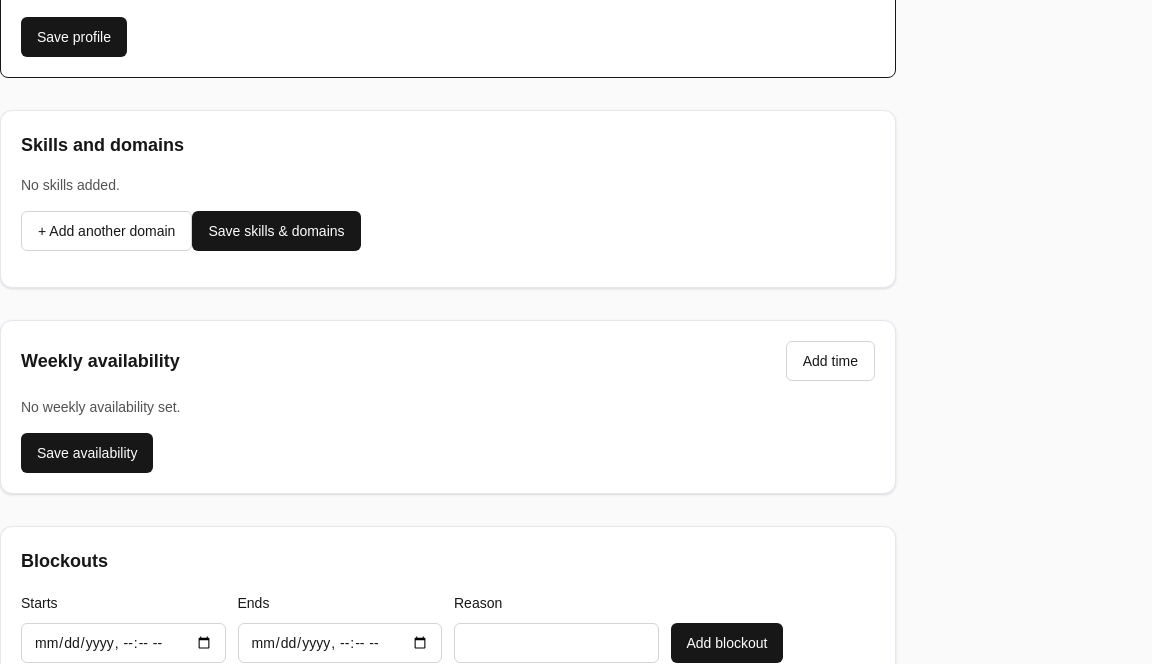
InterviewerWorkspace › creates and saves a weekly availability rule
The width and height of the screenshot is (1152, 664).
(page scrolled)
Click the button "Add time".
click(830, 361)  # box [786,341,875,381]
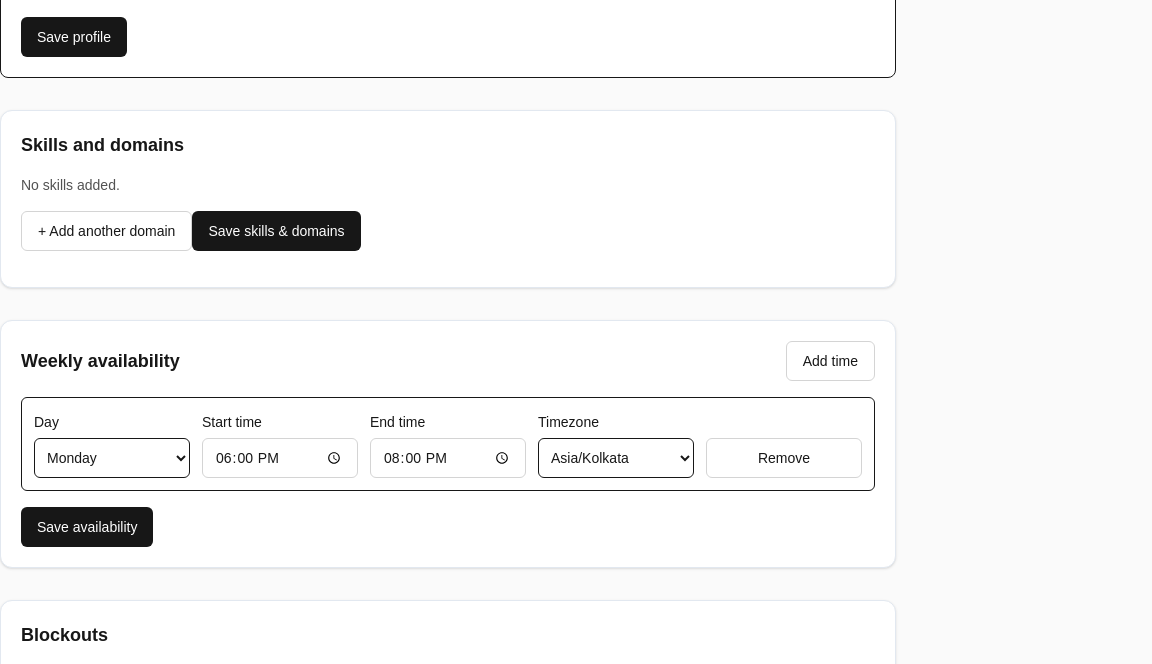
Click the button "Add time".
click(830, 361)  # box [786,341,875,381]
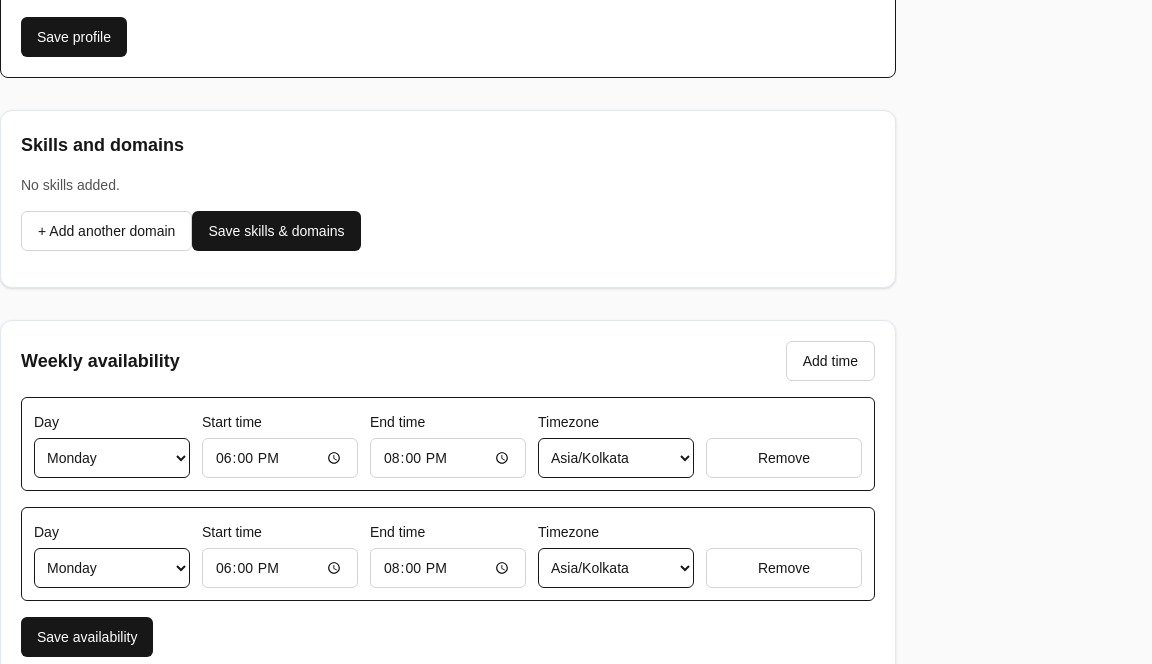
Select "Wednesday" in the dropdown named "Weekday 2" at coordinates (112, 568), box [34,548,190,588]
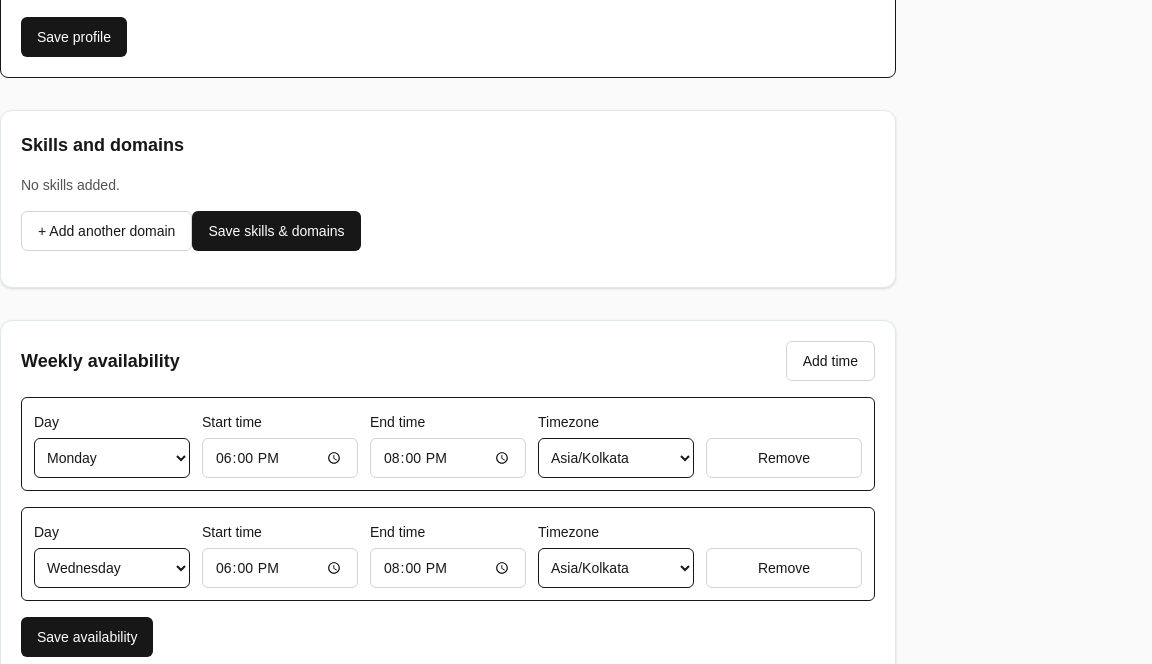
Click the button "Save availability".
click(87, 637)  # box [21,617,153,657]
(page scrolled)
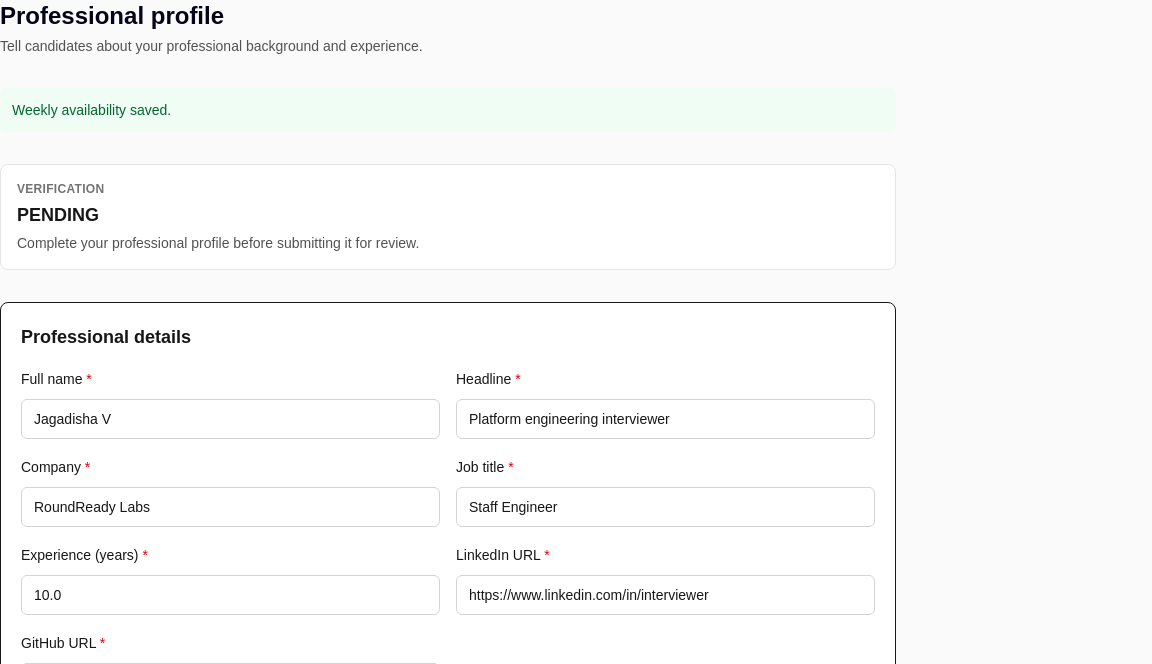
expect the text "Weekly availability saved." is shown: met, box [0,88,896,132]
